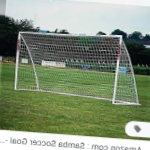goals: (13, 29, 142, 112)
